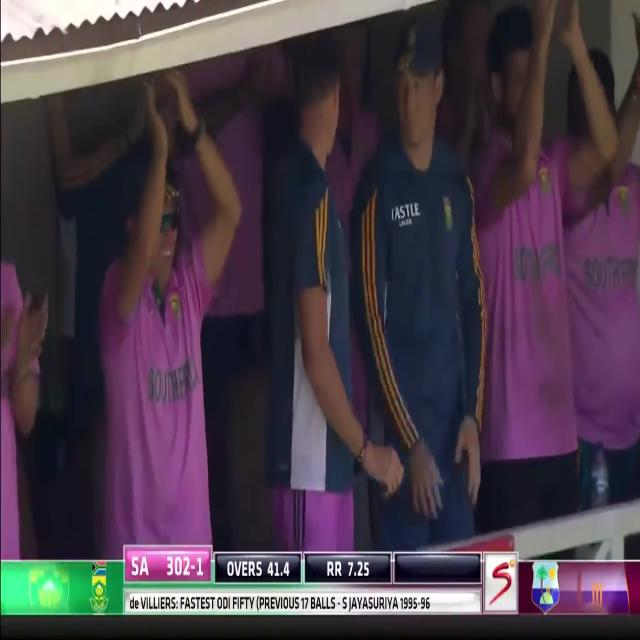Ball: (204, 9, 638, 530), (0, 90, 228, 555)
